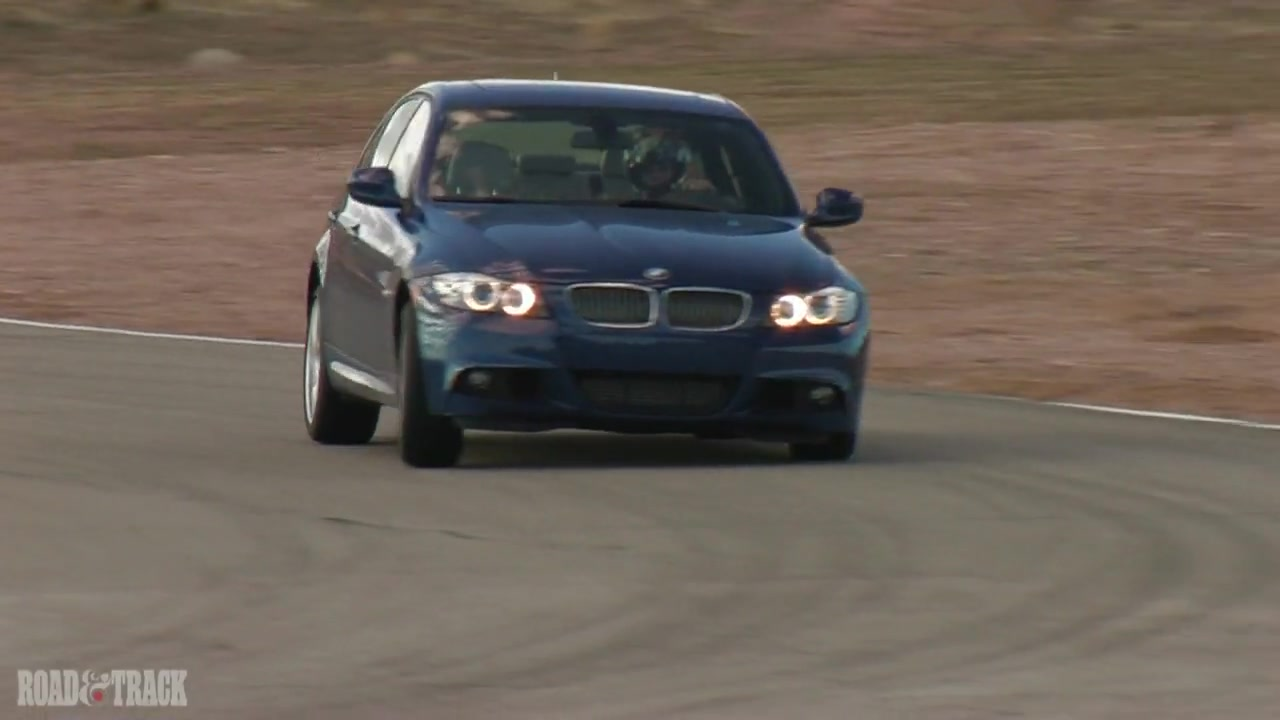car: (298, 76, 874, 465)
